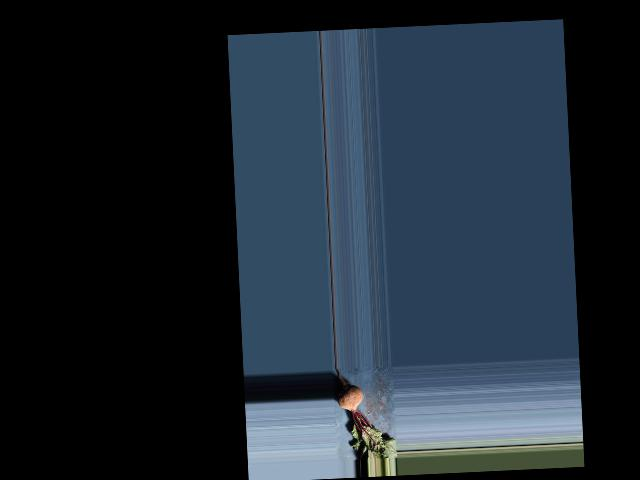beet: (335, 366, 397, 461)
